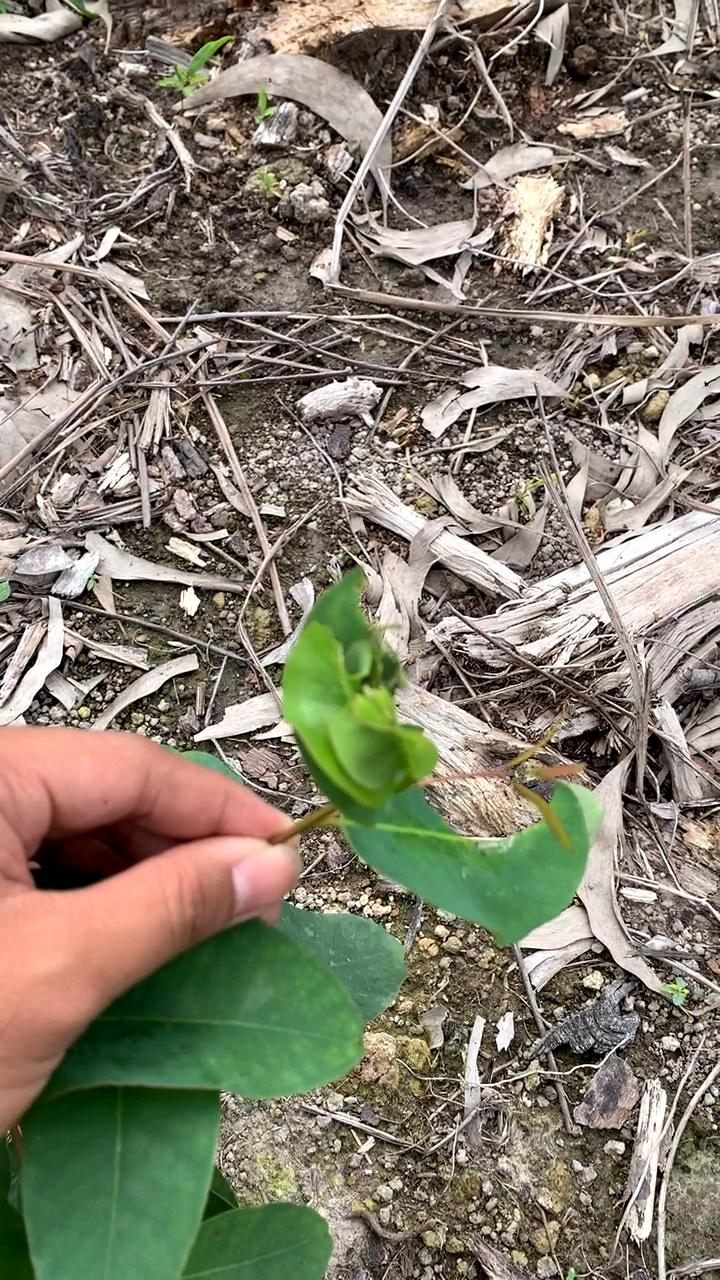Leaf Roller - Leaf: (283, 628, 449, 815)
